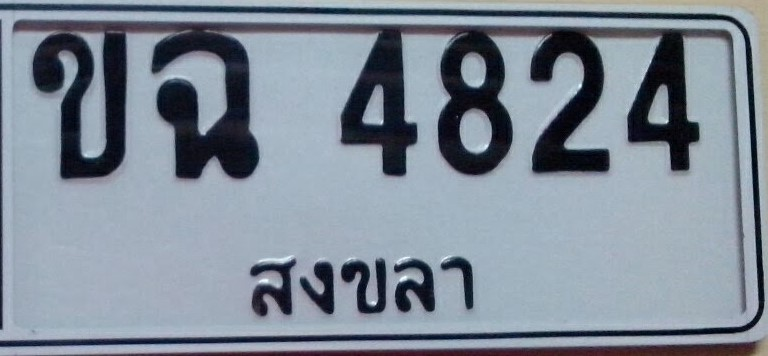txt02: (28, 26, 131, 182)
txt07: (148, 28, 265, 183)
